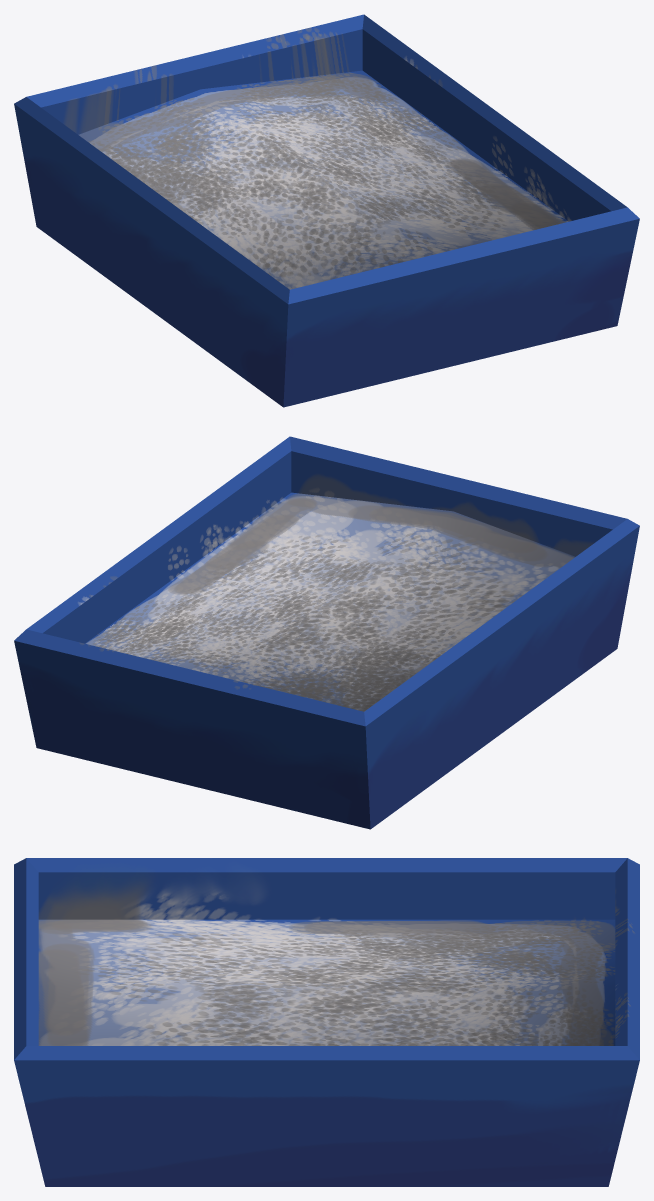
File: LitterBox.fbx
The picture shows the model from 3 angles, top to bottom: view 1: azimuth 30°, elevation 25°; view 2: azimuth 150°, elevation 25°; view 3: azimuth 270°, elevation 25°; orthographic projection. The views are drawn at different scales.
Parts seen in each view (by area): view 1: LitterBox; view 2: LitterBox; view 3: LitterBox.
Part boxes in pixels (x1,y1,x2,y2): LitterBox: (14,14,639,407); LitterBox: (14,436,639,829); LitterBox: (14,858,639,1186).
Size of the model in its own units: 45.11 by 60.96 by 15.24.
